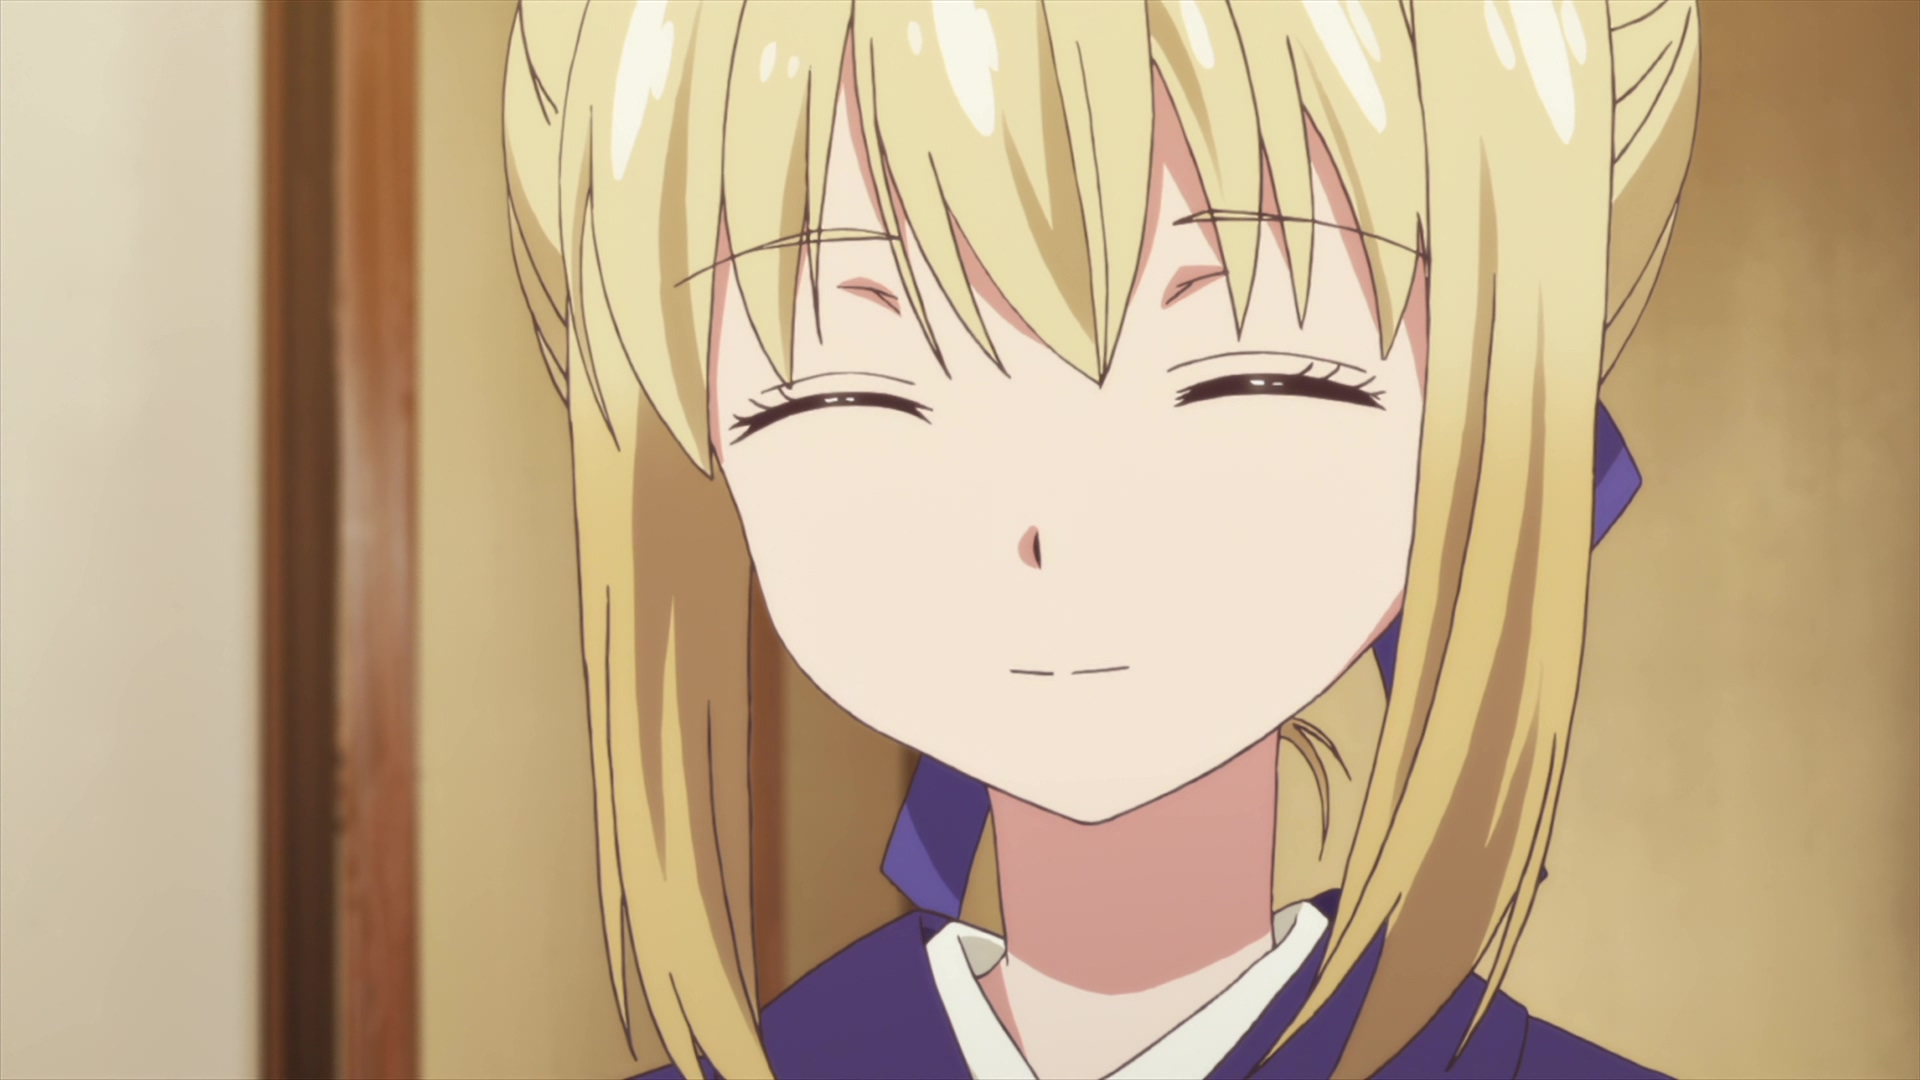桐: (501, 1, 1701, 1080)
